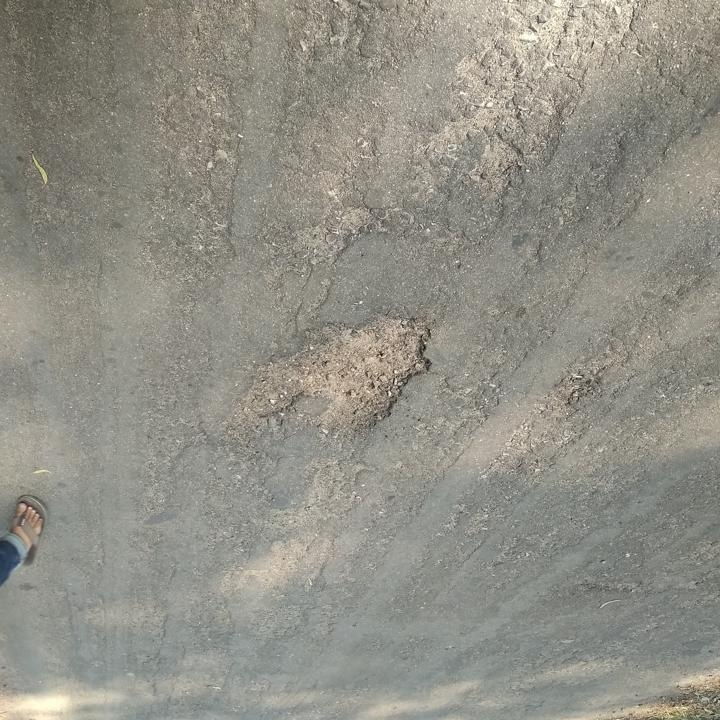pothole: (227, 309, 438, 441)
